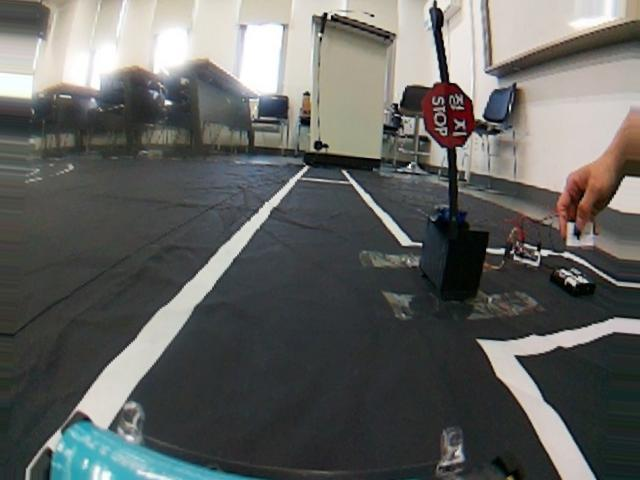sign_stop: (420, 78, 477, 150)
straight: (0, 163, 640, 480)
